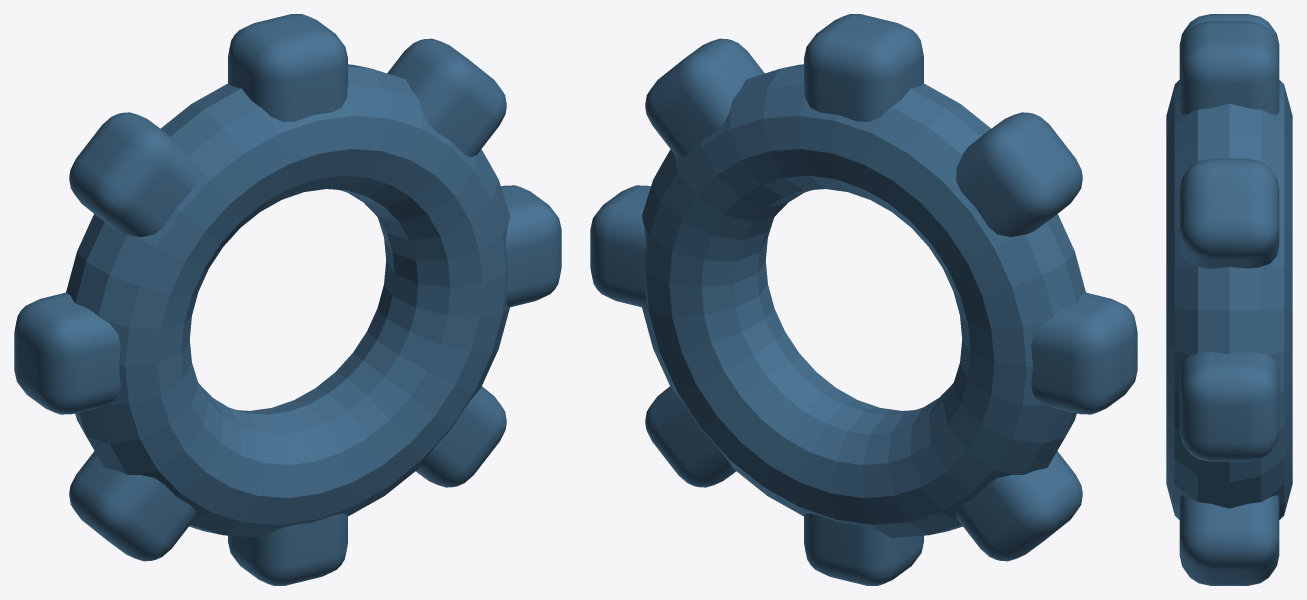
File: SettingsIcon.glb
3 renders of one model, left to right at view 1: azimuth 30°, elevation 25°; view 2: azimuth 150°, elevation 25°; view 3: azimuth 270°, elevation 25°, orthographic.
Visible parts, largest first — view 1: SettingsIcon; view 2: SettingsIcon; view 3: SettingsIcon.
Part boxes in pixels (x1,y1,x2,y2): SettingsIcon: [14, 14, 561, 585]; SettingsIcon: [590, 14, 1137, 585]; SettingsIcon: [1166, 14, 1292, 585].
Size of the model in its own units: 1.12 by 1.12 by 0.24.
